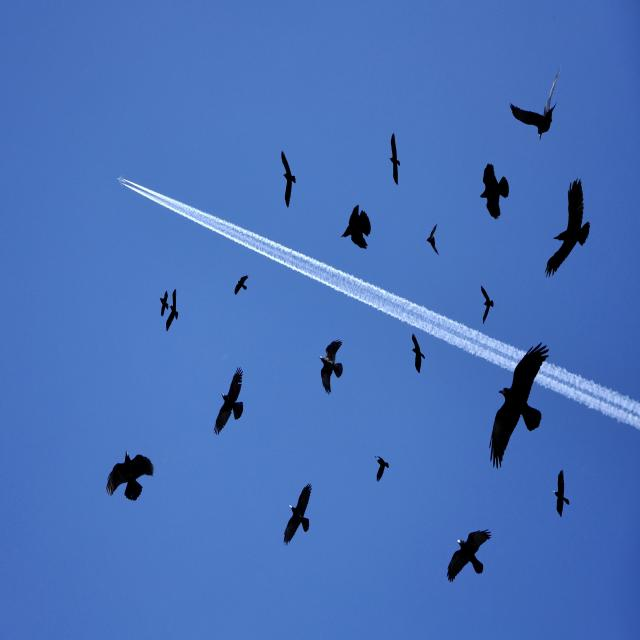bird: (490, 342, 550, 469), (550, 175, 594, 278), (508, 71, 562, 142), (448, 530, 496, 583), (106, 453, 155, 501), (214, 370, 246, 434), (478, 165, 511, 223), (282, 482, 312, 544), (343, 205, 374, 251), (318, 343, 344, 396), (280, 149, 298, 211), (552, 467, 570, 518), (161, 289, 182, 332), (388, 130, 403, 186), (479, 283, 496, 327), (409, 335, 426, 375), (422, 224, 438, 256), (374, 457, 392, 483), (232, 274, 249, 295)
